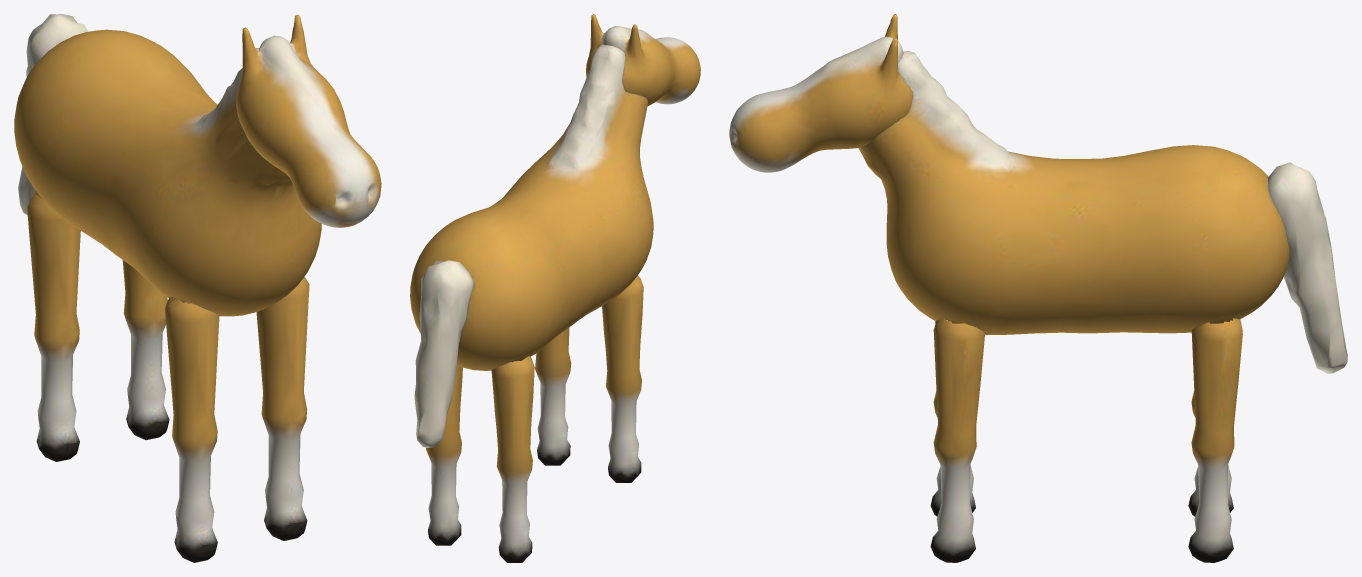
File: animal_palomino.glb
3 renders of one model, left to right at view 1: azimuth 30°, elevation 25°; view 2: azimuth 150°, elevation 25°; view 3: azimuth 270°, elevation 25°, orthographic. The views are drawn at different scales.
Parts seen in each view (by area): view 1: animal_palomino, head, leg0, leg2, leg1, leg3, tail; view 2: animal_palomino, tail, leg2, leg0, head, leg3, leg1; view 3: animal_palomino, head, leg3, leg1, tail.
Part boxes in pixels (x1=…): animal_palomino: x1=14, y1=29, x2=321, y2=316; head: x1=236, y1=15, x2=381, y2=227; leg0: x1=165, y1=297, x2=219, y2=562; leg2: x1=27, y1=191, x2=80, y2=461; leg1: x1=256, y1=277, x2=309, y2=540; leg3: x1=122, y1=260, x2=169, y2=439; tail: x1=18, y1=14, x2=87, y2=215; animal_palomino: x1=410, y1=44, x2=653, y2=370; tail: x1=414, y1=260, x2=473, y2=447; leg2: x1=491, y1=356, x2=534, y2=562; leg0: x1=602, y1=275, x2=643, y2=482; head: x1=586, y1=14, x2=700, y2=105; leg3: x1=426, y1=365, x2=462, y2=545; leg1: x1=535, y1=327, x2=571, y2=465; animal_palomino: x1=858, y1=50, x2=1289, y2=334; head: x1=729, y1=14, x2=912, y2=172; leg3: x1=1188, y1=318, x2=1242, y2=562; leg1: x1=930, y1=319, x2=984, y2=562; tail: x1=1268, y1=162, x2=1347, y2=373.
Bounding box in the file's own units: 0.2211 × 0.7049 × 0.7675.
1 material, 1 textured.
